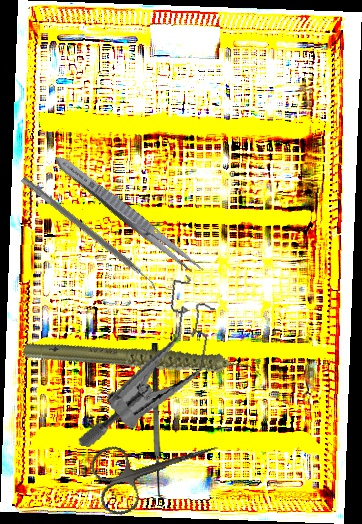Dressing Forceps: (49, 150, 208, 280)
Handpiece: (21, 293, 264, 431)
Iris Scissors: (86, 415, 229, 520)
Spatula Surgical: (16, 175, 162, 295), (151, 343, 171, 499)
Speculum: (77, 261, 222, 466)
